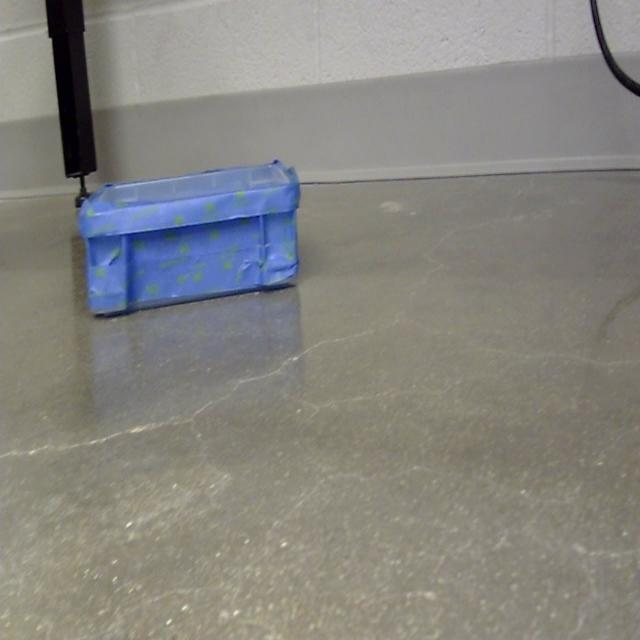bucket: (76, 160, 302, 320)
